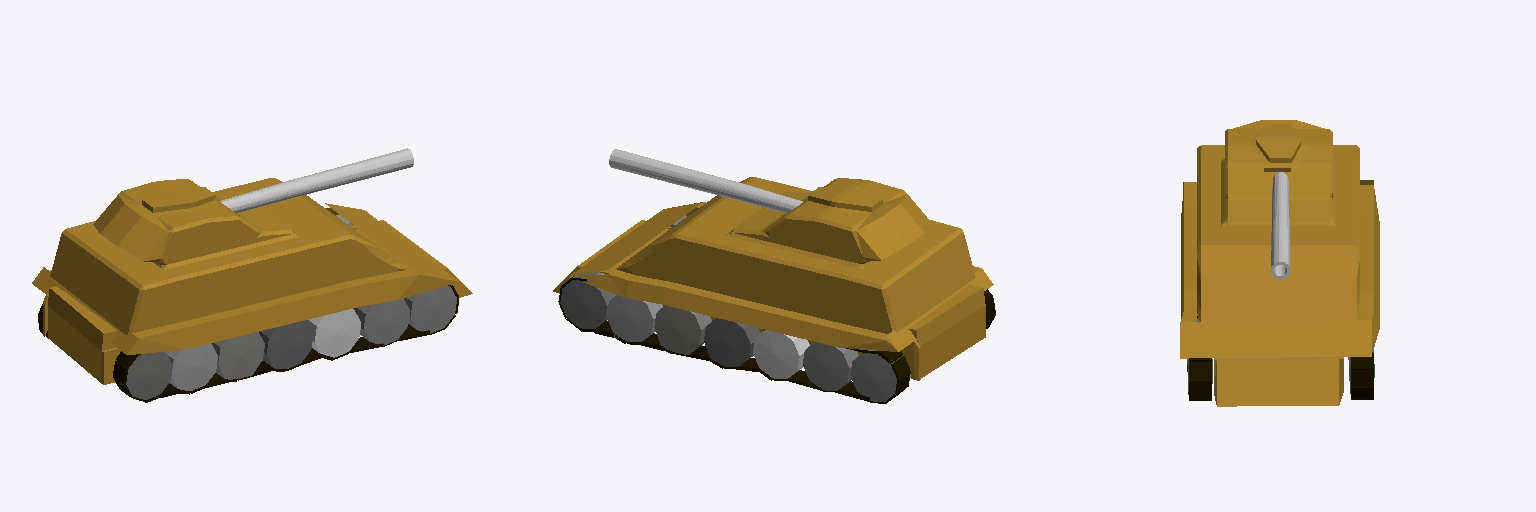
The model's file is Tank.obj.
3 renders of one model, left to right at view 1: azimuth 30°, elevation 25°; view 2: azimuth 150°, elevation 25°; view 3: azimuth 270°, elevation 25°, orthographic.
Visible parts, largest first — view 1: Cube, Cylinder, Circle.007_Circle.017, Circle.011_Circle.021, Circle.010_Circle.020, Circle.012_Circle.022, Circle.009_Circle.019, Circle.008_Circle.018, Circle.013_Circle.023; view 2: Cube, Cylinder, Circle_Circle.024, Circle.011_Circle.021, Circle.006_Circle.030, Circle.003_Circle.027, Circle.004_Circle.028, Circle.001_Circle.025, Circle.005_Circle.029; view 3: Cube, Cylinder, Circle.006_Circle.030, Circle.013_Circle.023.
Boxes of the visible parts, box(x1,y1,x2,y2) form: Cube: box(32, 178, 472, 384); Cylinder: box(220, 148, 413, 212); Circle.007_Circle.017: box(113, 351, 179, 402); Circle.011_Circle.021: box(305, 309, 383, 360); Circle.010_Circle.020: box(259, 321, 321, 371); Circle.012_Circle.022: box(354, 298, 429, 346); Circle.009_Circle.019: box(211, 332, 273, 382); Circle.008_Circle.018: box(165, 343, 227, 394); Circle.013_Circle.023: box(404, 285, 458, 334); Cube: box(553, 177, 993, 380); Cylinder: box(609, 149, 802, 213); Circle_Circle.024: box(846, 348, 910, 403); Circle.011_Circle.021: box(753, 329, 821, 390); Circle.006_Circle.030: box(558, 272, 616, 337); Circle.003_Circle.027: box(704, 318, 760, 371); Circle.004_Circle.028: box(654, 305, 711, 360); Circle.001_Circle.025: box(803, 342, 869, 401); Circle.005_Circle.029: box(601, 274, 662, 350); Cube: box(1180, 120, 1379, 406); Cylinder: box(1271, 172, 1289, 278); Circle.006_Circle.030: box(1349, 343, 1374, 399); Circle.013_Circle.023: box(1188, 358, 1212, 400).
Size of the model in its own units: 3.77 by 1.56 by 1.75.